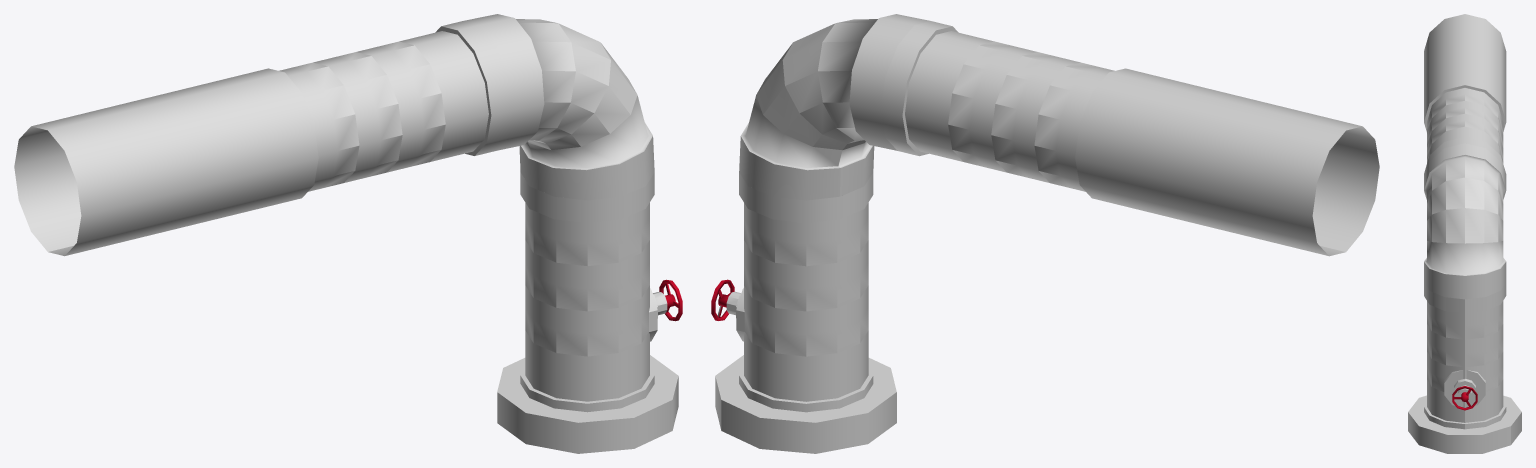
File: Valve_Updated.fbx
3 renders of one model, left to right at view 1: azimuth 30°, elevation 25°; view 2: azimuth 150°, elevation 25°; view 3: azimuth 270°, elevation 25°, orthographic. The views are drawn at different scales.
Parts seen in each view (by area): view 1: valve_base1; view 2: valve_base1; view 3: valve_base1, valve5.
Part boxes in pixels (x1,y1,x2,y2): valve_base1: [14, 14, 678, 453]; valve_base1: [715, 14, 1379, 453]; valve_base1: [1408, 14, 1521, 453]; valve5: [1452, 386, 1477, 410].
Bounding box in the file's own units: 2.9 × 1.84 × 0.7444.
Materials: 2 (1 with a texture image).
